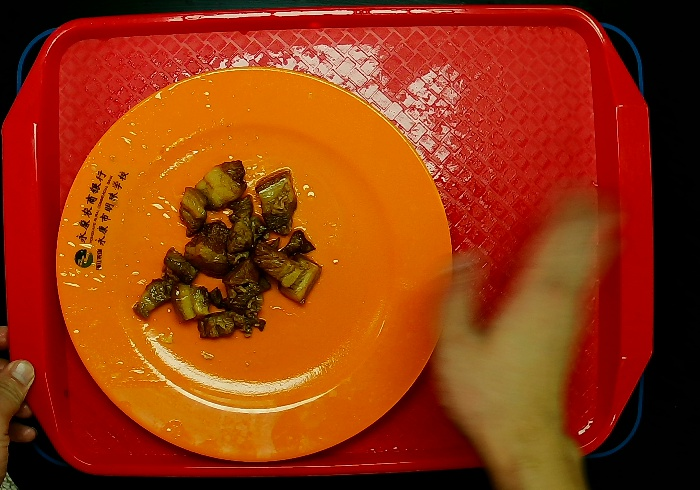YKMZ-Ju_Se_Mian_Pan: (52, 64, 454, 462)
